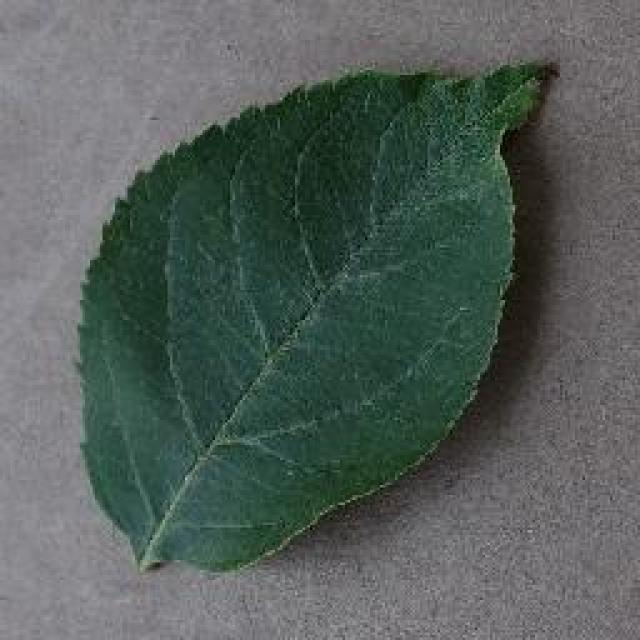Apple___healthy: (62, 38, 542, 590)
